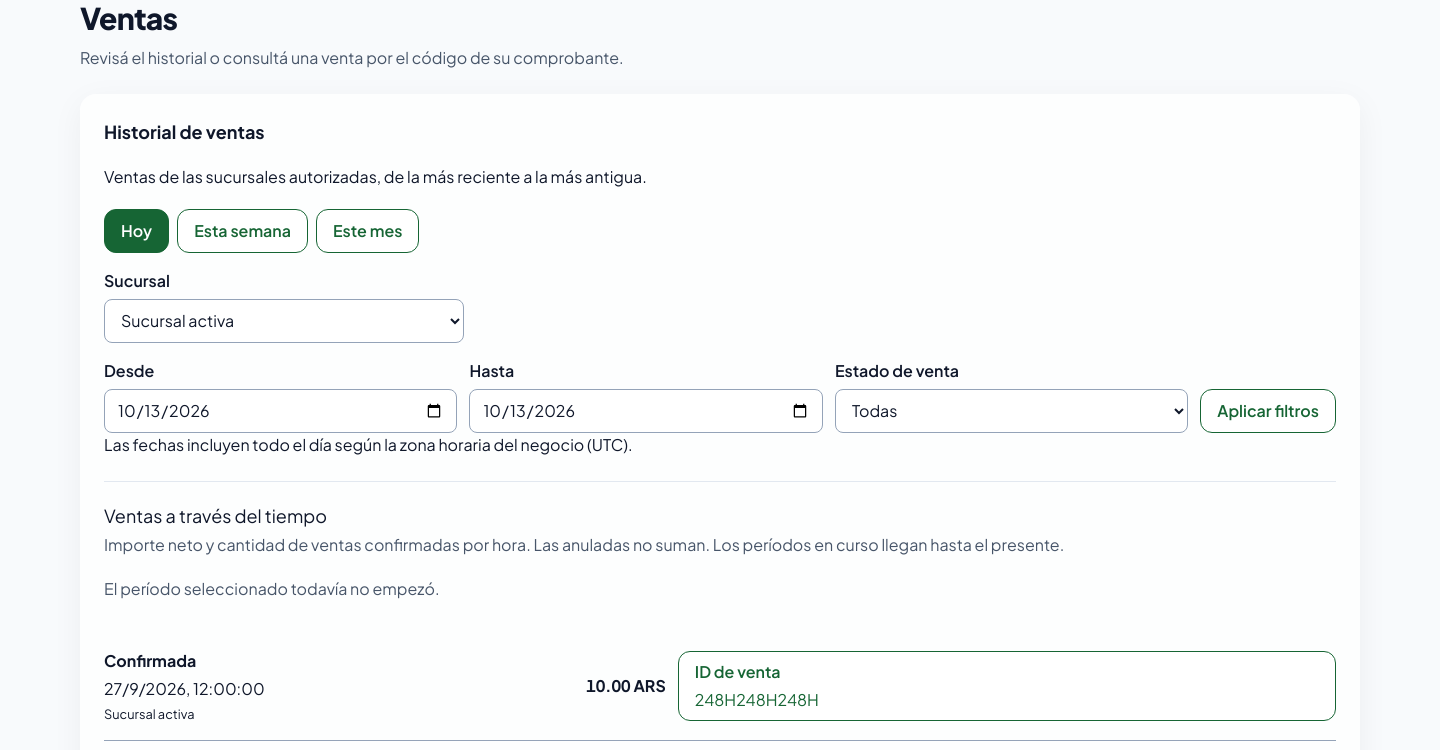
Test: T152B sale lookup › shows history, paginates and opens the existing detail from a sale
Step 1. Click the button "ID de venta 248H248H248H" → (738, 672), box [678,651,1336,721]
(page scrolled)
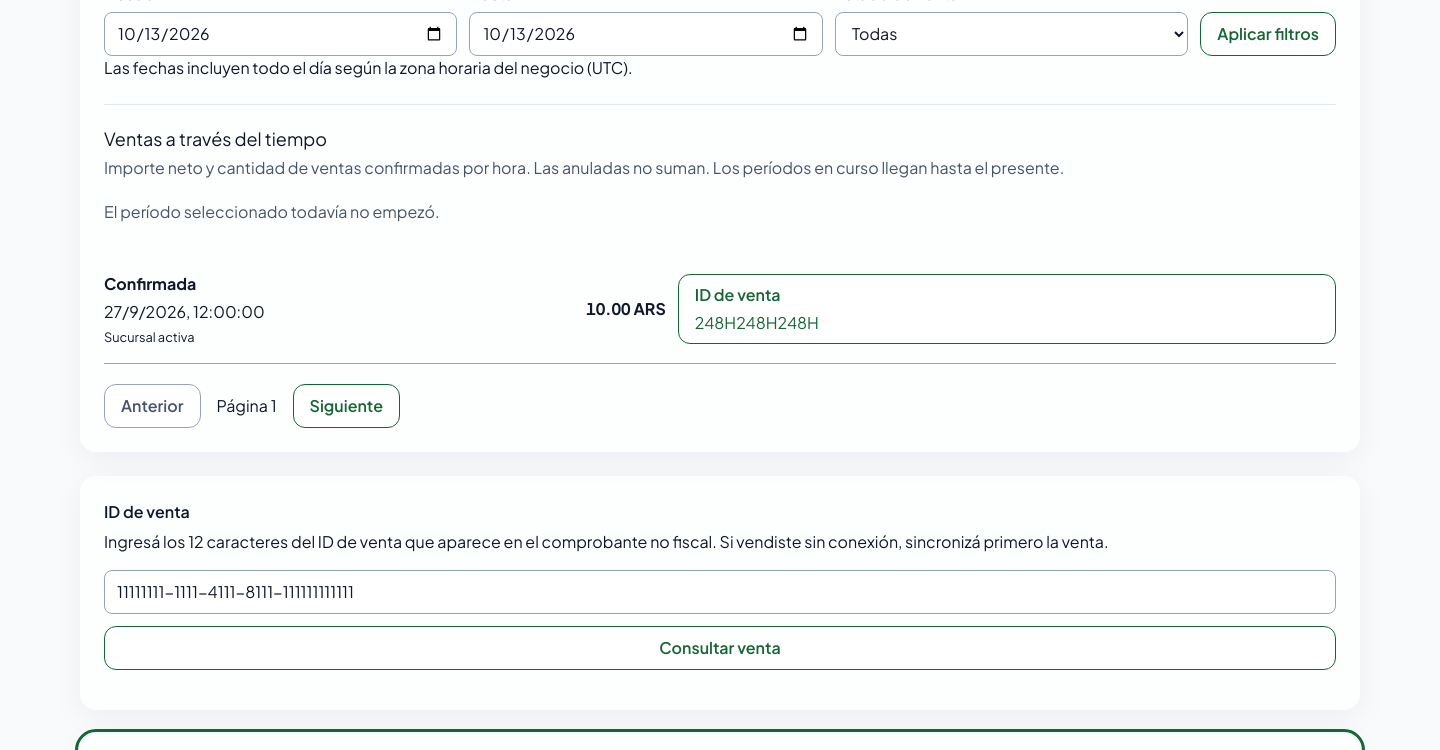
Step 2. Click the button "Siguiente" → (346, 406), box [293,384,400,428]
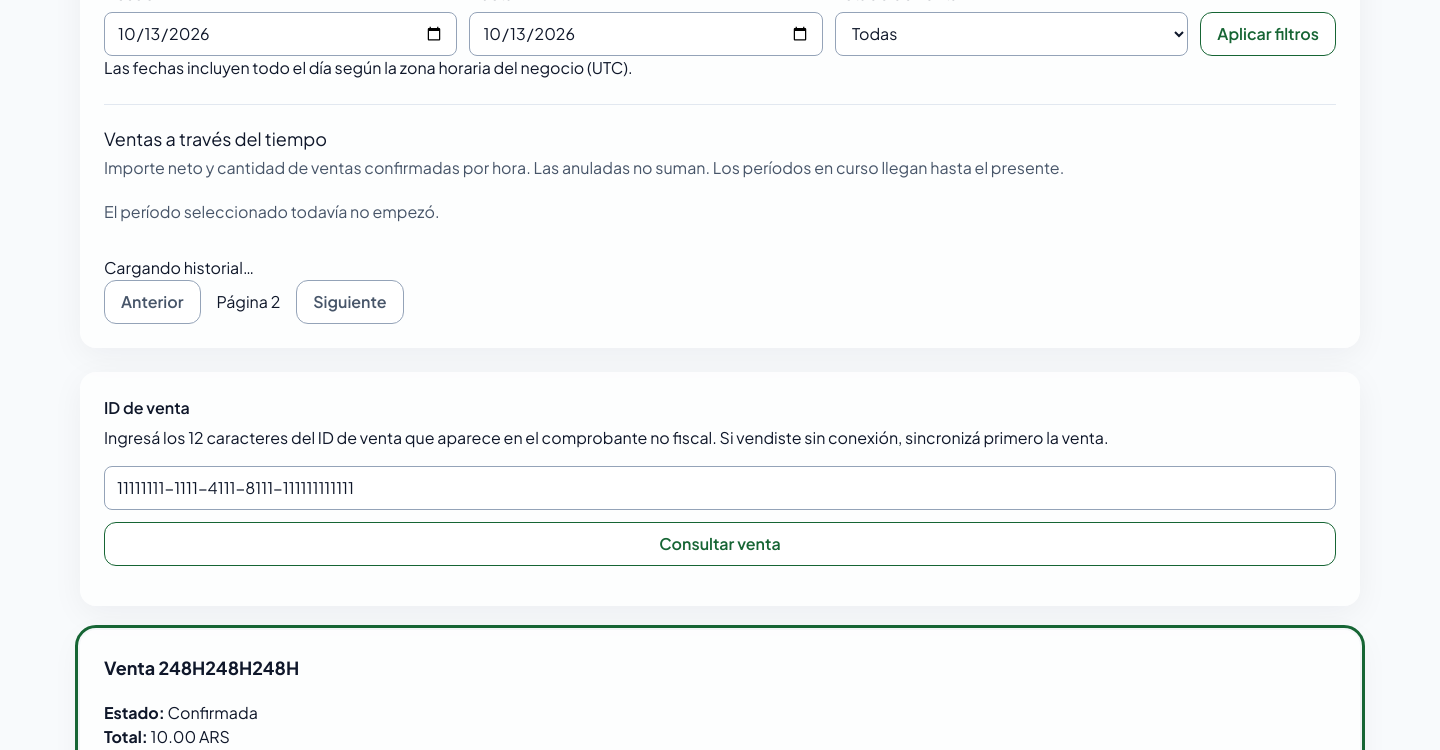
Step 3. Select "Anuladas" in the dropdown labelled "Estado de venta" → (1012, 34), box [835,12,1188,56]
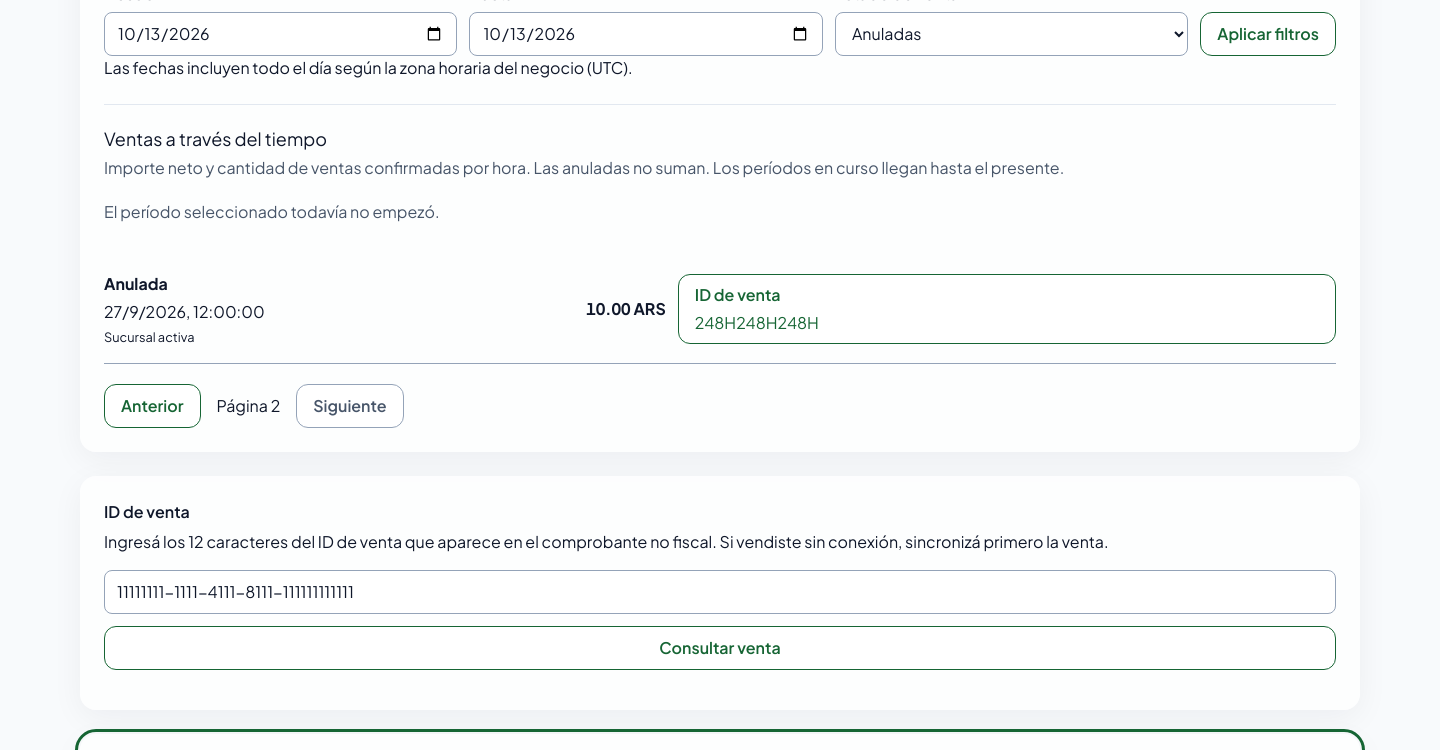
Step 4. Type "2026-09-27" into the date field labelled "Desde" → (281, 34), box [104,12,457,56]
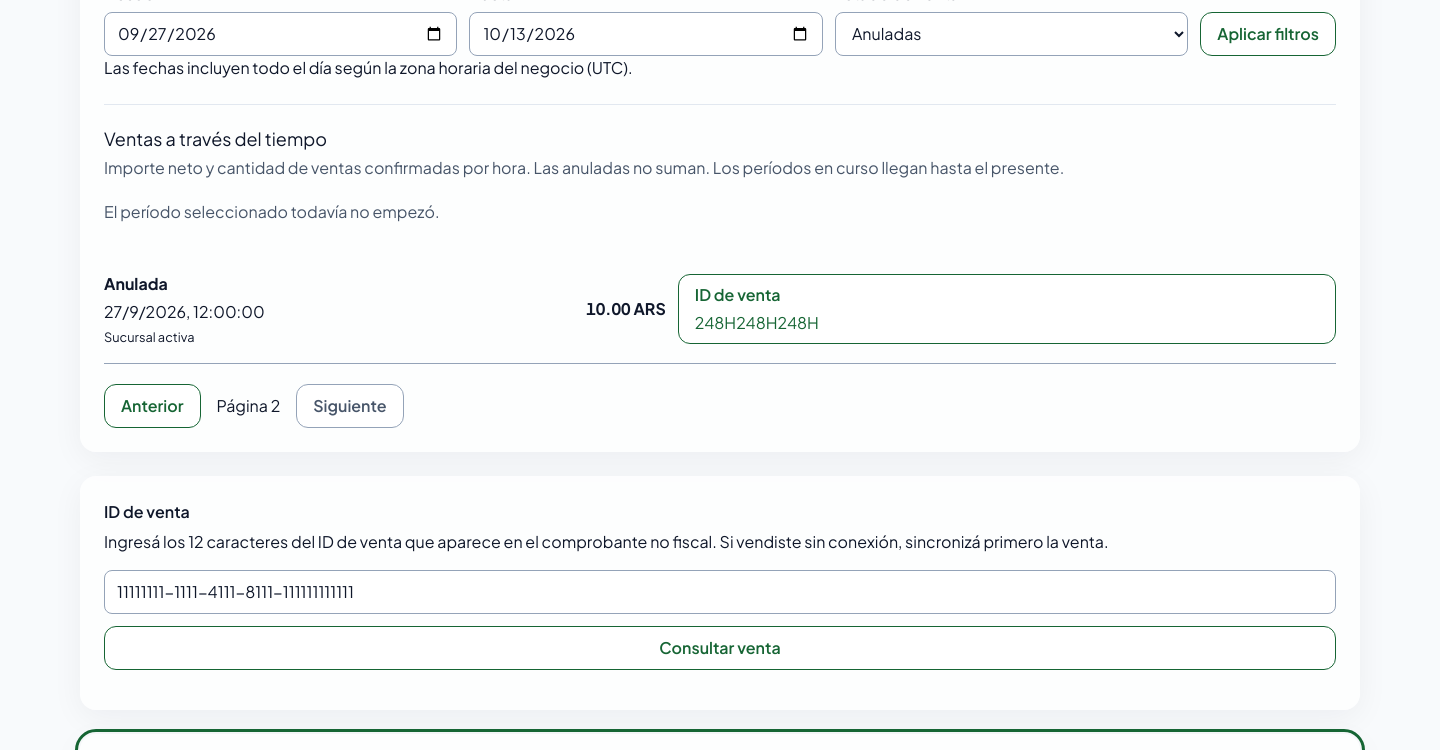
Step 5. Type "2026-09-27" into the date field labelled "Hasta" → (646, 34), box [469,12,823,56]
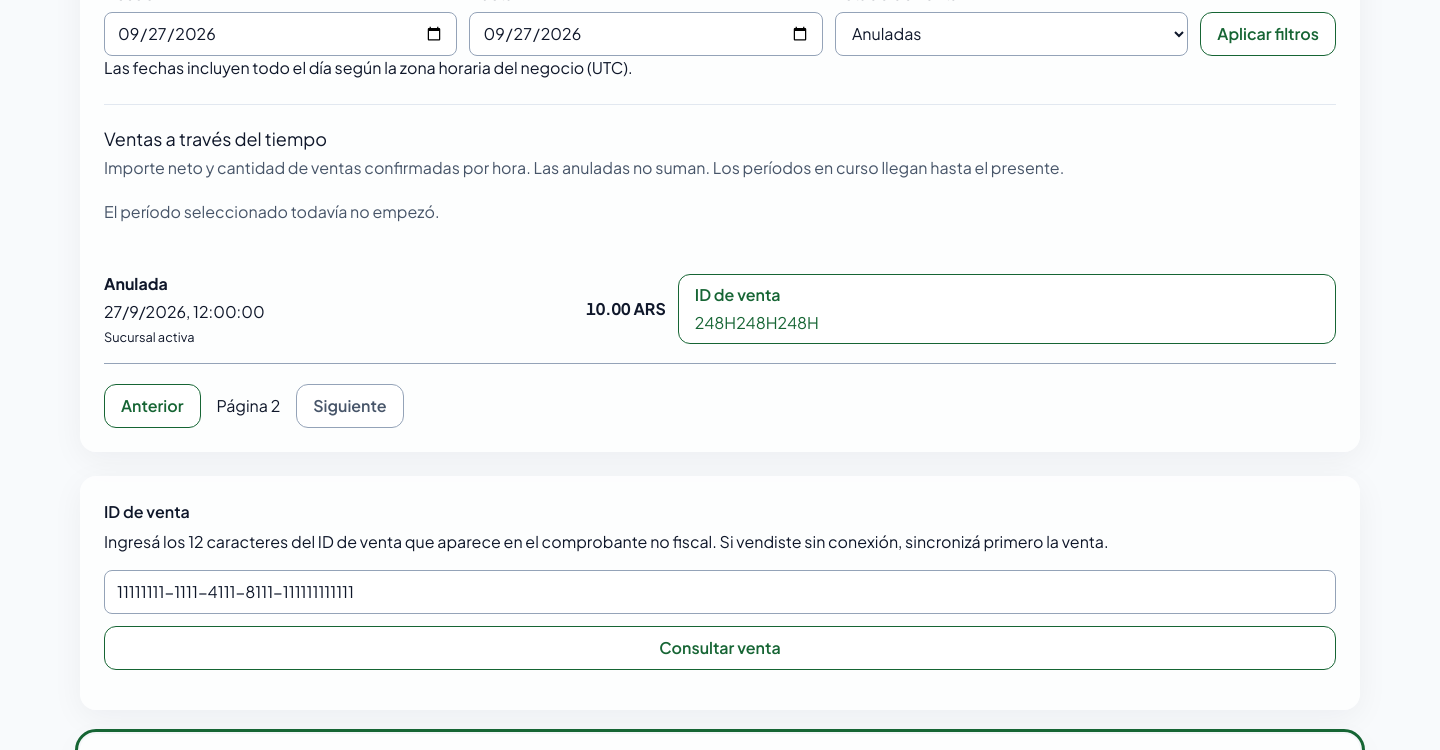
Step 6. Click the button "Aplicar filtros" → (1268, 34), box [1200,12,1336,56]
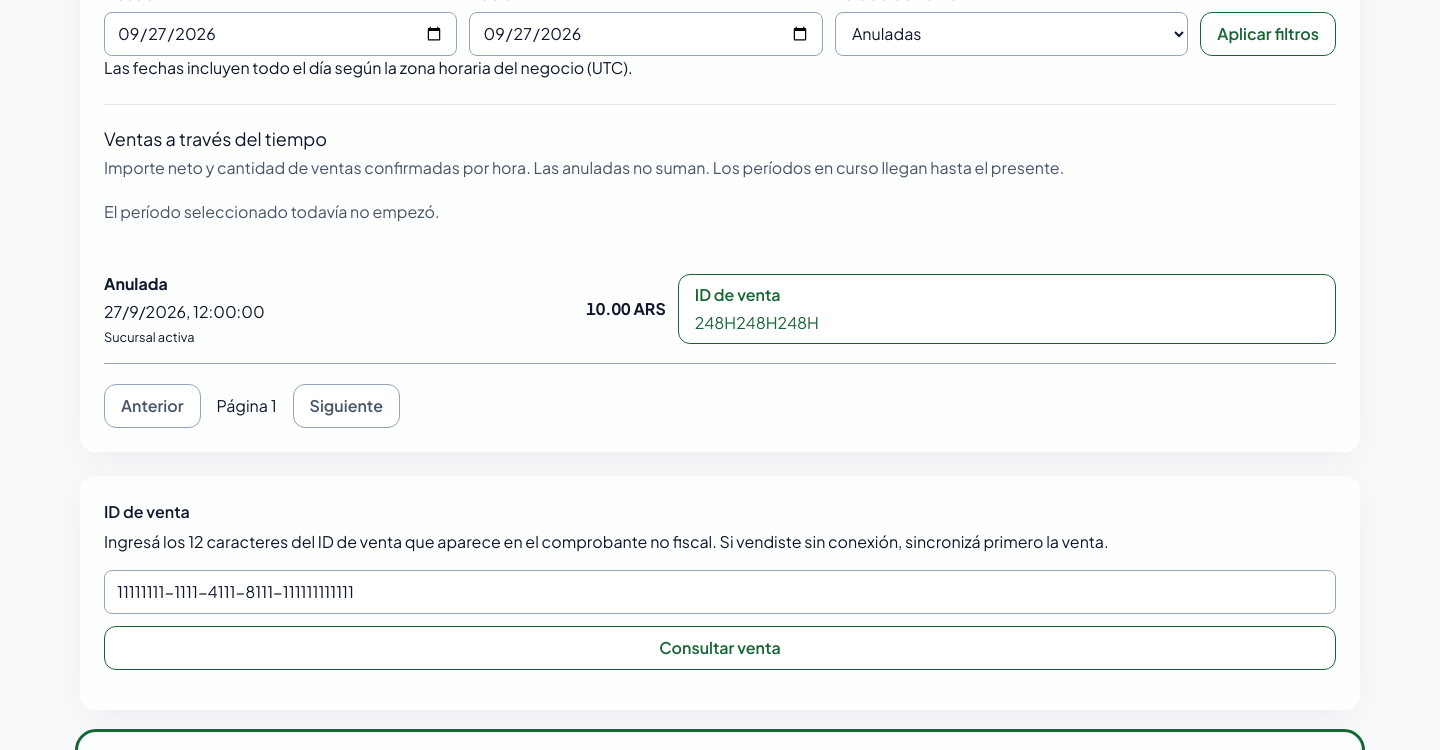
Check: the button "Anterior" is disabled, box [104,384,200,428]
